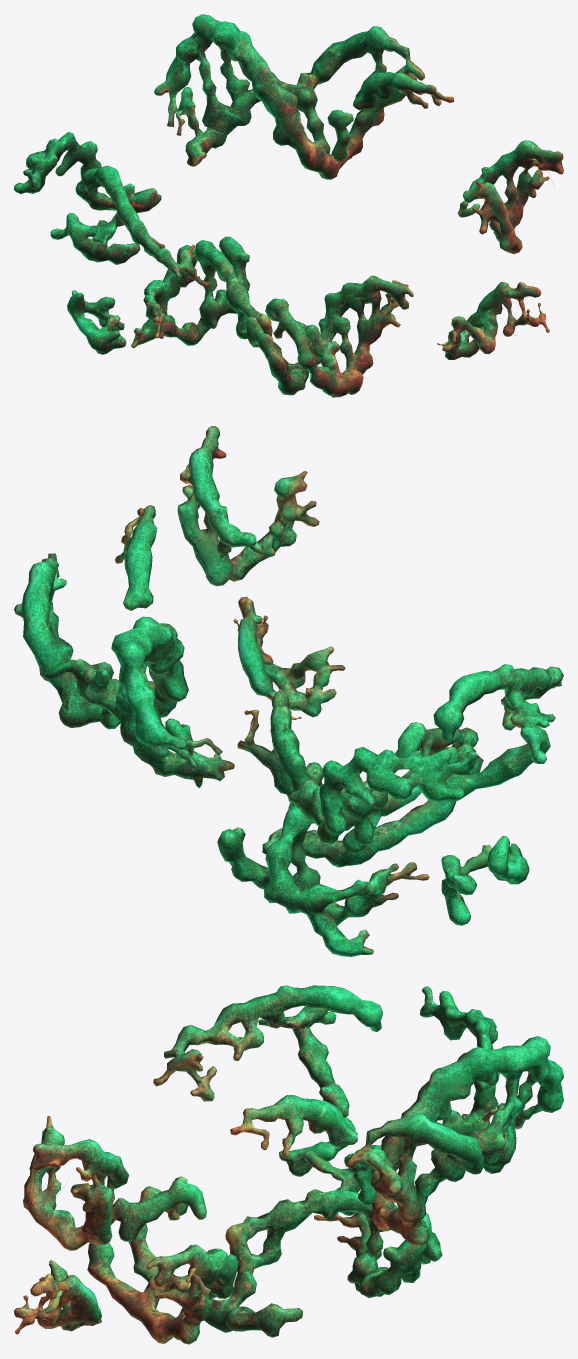
Rendered from Modelo_Virus.glb.
The picture shows the model from 3 angles, top to bottom: view 1: azimuth 30°, elevation 25°; view 2: azimuth 150°, elevation 25°; view 3: azimuth 270°, elevation 25°; orthographic projection. The views are drawn at different scales.
Parts seen in each view (by area): view 1: tripo_node_8aefa125-2fbb-4ce4-9a66-9c0c9143fa7c; view 2: tripo_node_8aefa125-2fbb-4ce4-9a66-9c0c9143fa7c; view 3: tripo_node_8aefa125-2fbb-4ce4-9a66-9c0c9143fa7c.
Boxes of the visible parts, <box> form: tripo_node_8aefa125-2fbb-4ce4-9a66-9c0c9143fa7c: <box>14,14,563,397</box>; tripo_node_8aefa125-2fbb-4ce4-9a66-9c0c9143fa7c: <box>14,426,563,956</box>; tripo_node_8aefa125-2fbb-4ce4-9a66-9c0c9143fa7c: <box>14,985,563,1344</box>.
Bounding box in the file's own units: 0.9785 × 0.6297 × 1.
1 material, 1 textured.
